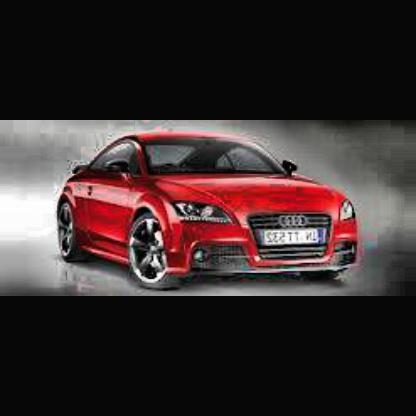Audi TTS Coupe 2012: (56, 133, 354, 287)
